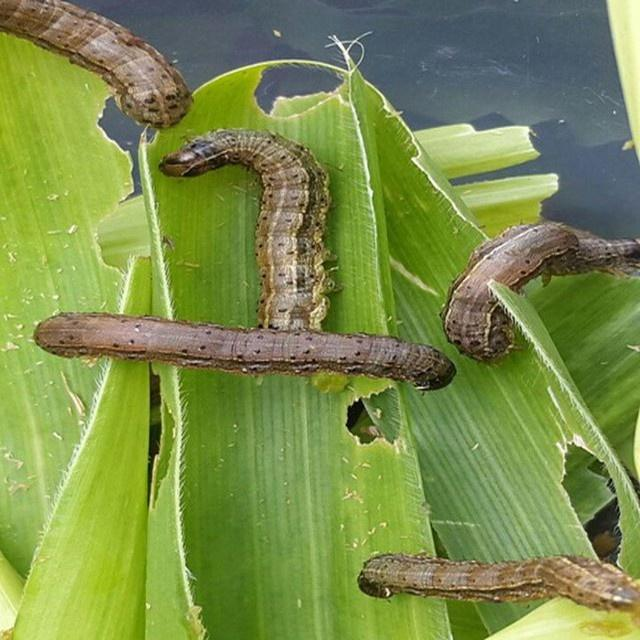worm: (31, 299, 459, 409), (157, 126, 339, 332), (439, 219, 640, 365), (1, 1, 195, 130), (357, 550, 640, 633)
